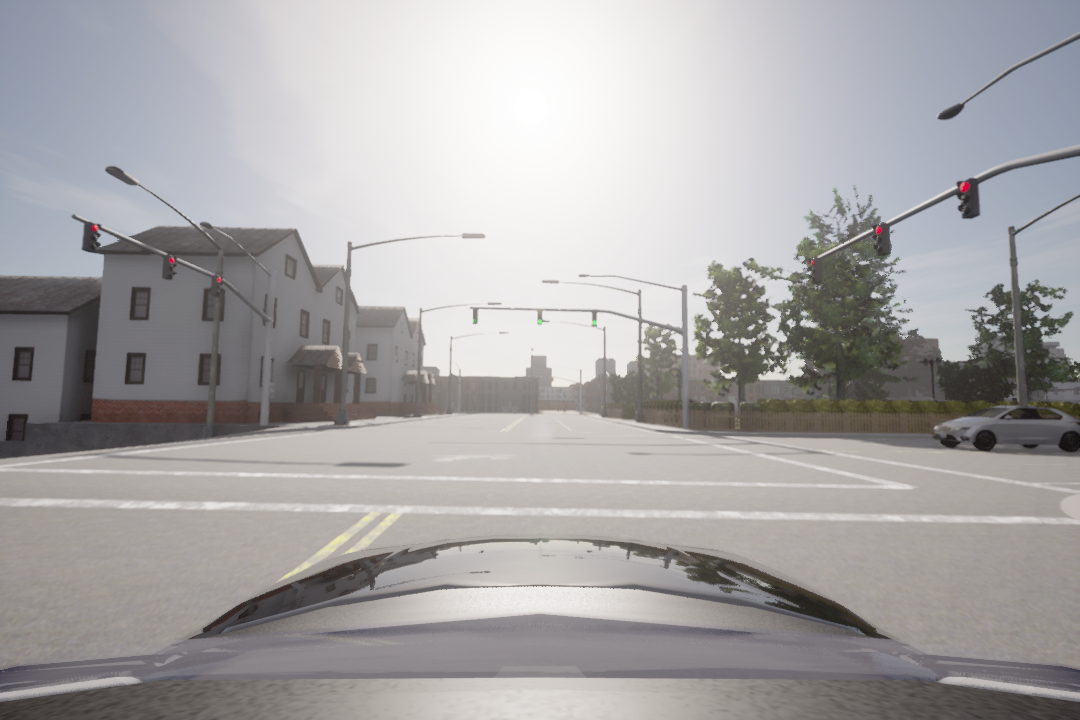TrafficLight: (955, 178, 981, 219), (871, 223, 894, 255), (83, 221, 103, 250), (162, 252, 179, 281), (809, 256, 822, 282), (587, 307, 601, 328), (211, 277, 225, 297), (533, 306, 544, 326), (470, 308, 479, 326)
